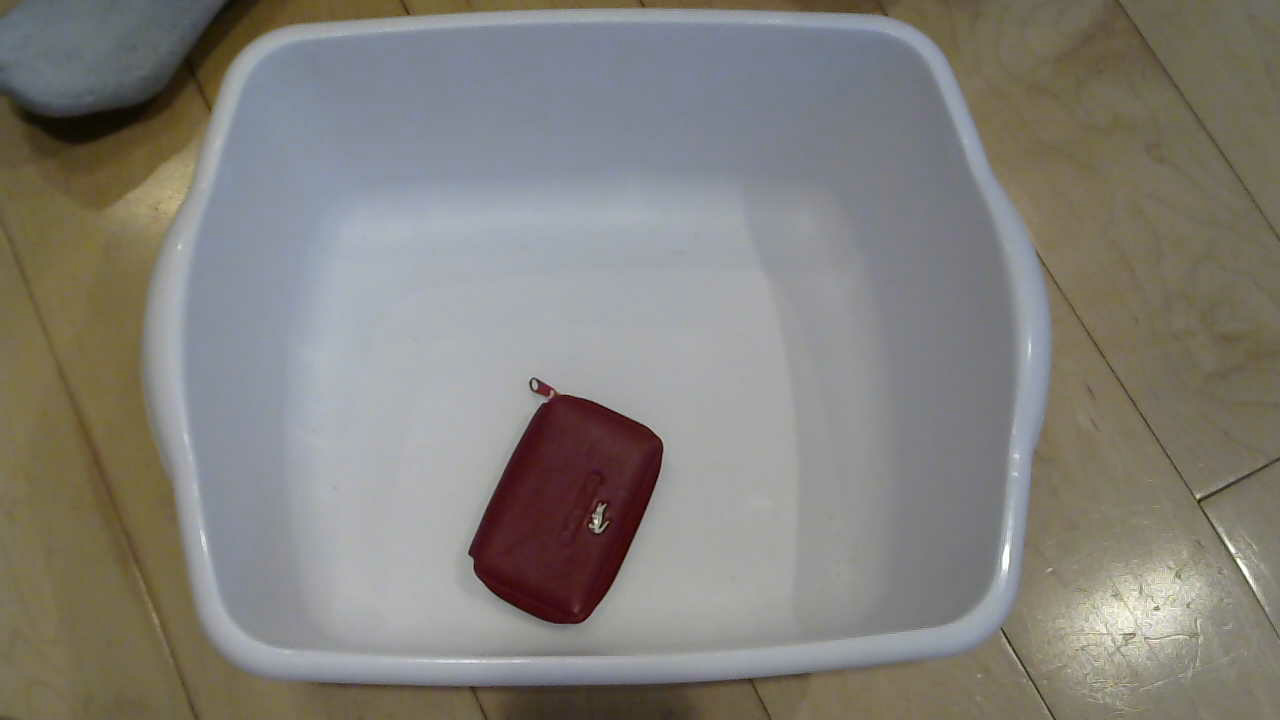wallet: (464, 388, 700, 628)
